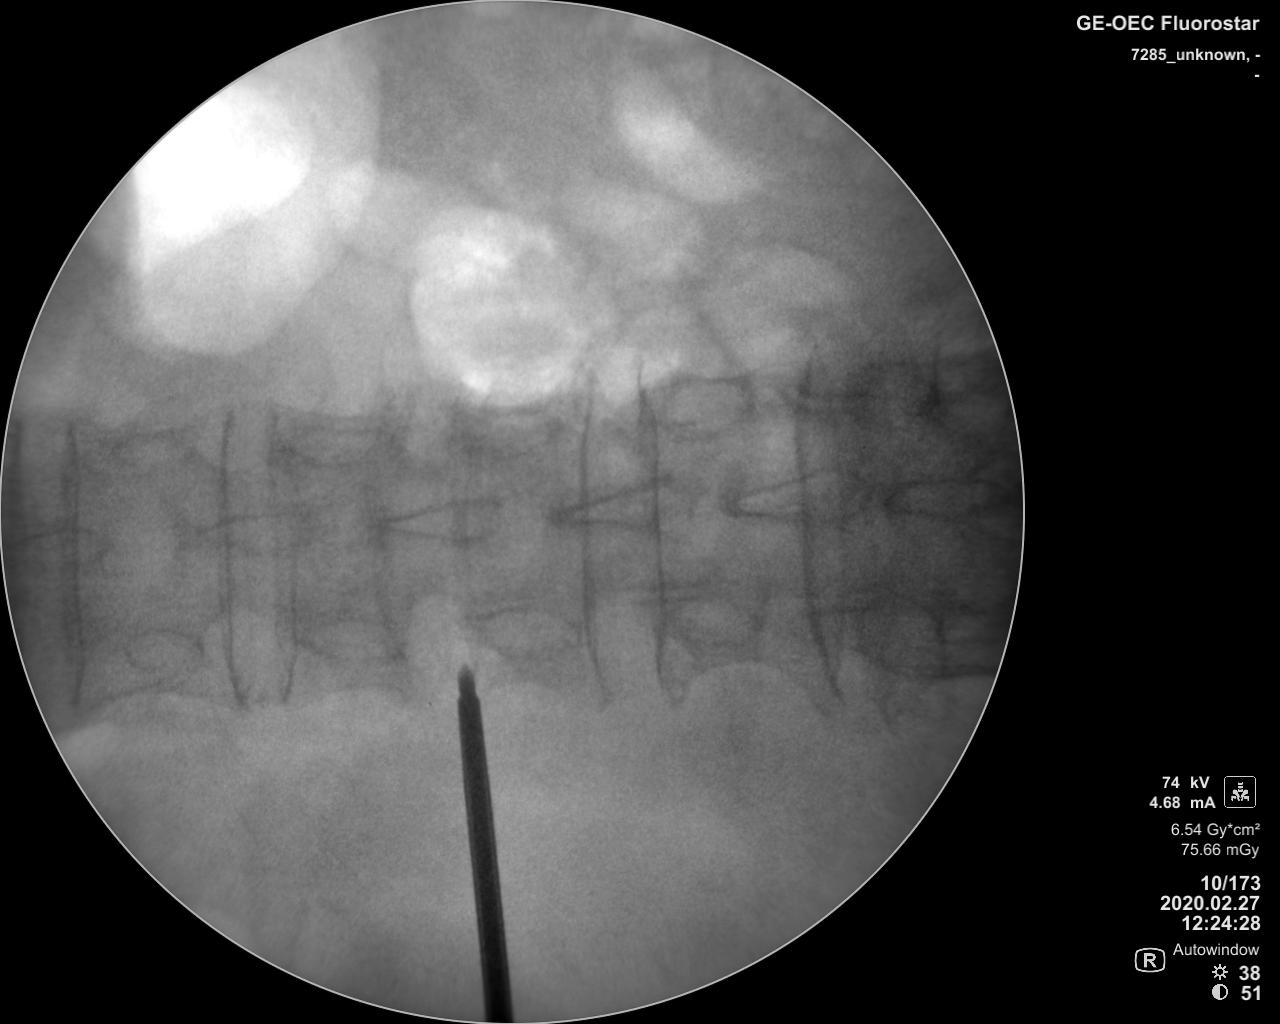eyes: (267, 386, 386, 471), (80, 414, 195, 482), (639, 373, 759, 434), (462, 604, 582, 664), (452, 397, 562, 459), (662, 587, 765, 648), (296, 610, 402, 666), (118, 628, 208, 678)
line: (789, 344, 850, 696), (210, 402, 256, 719), (637, 376, 674, 717), (573, 382, 610, 703), (444, 405, 478, 679), (63, 405, 92, 718)
nose: (716, 464, 876, 528), (543, 476, 702, 531), (362, 493, 507, 550), (181, 511, 329, 561), (884, 473, 1010, 525), (2, 525, 112, 571)
